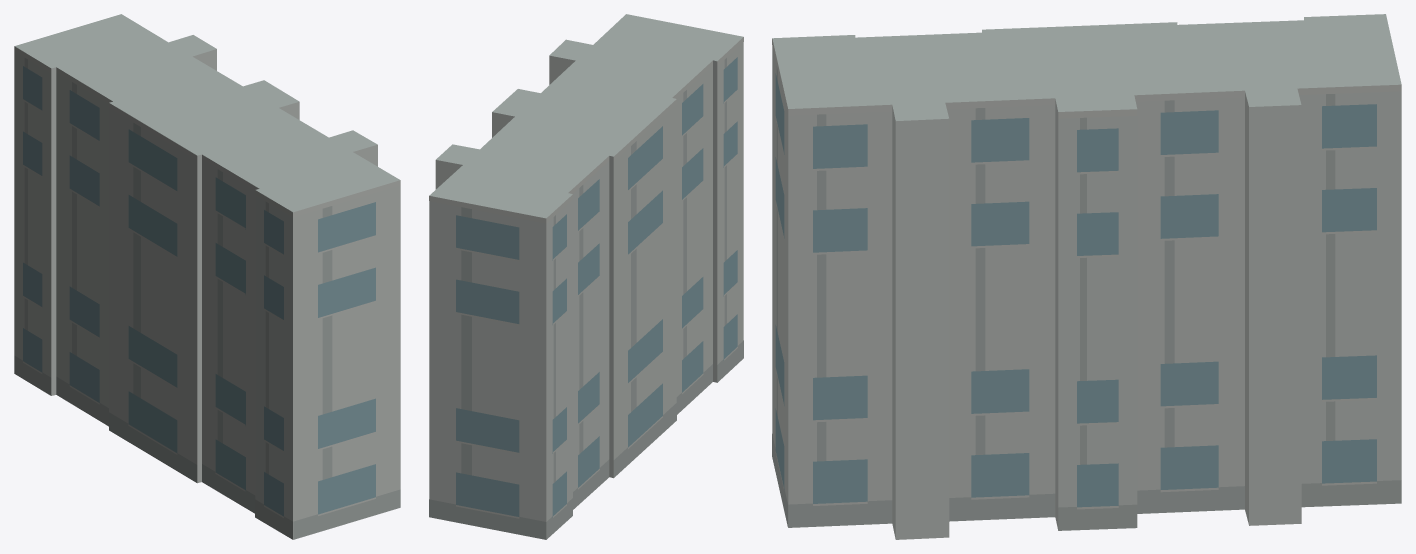
Rendered from survey-upis-32699917.glb.
3 views of the same model, side by side, from view 1: azimuth 30°, elevation 25°; view 2: azimuth 150°, elevation 25°; view 3: azimuth 270°, elevation 25° (orthographic). The views are drawn at different scales.
Visible parts, largest first — view 1: survey-upis-32699917.tmp; view 2: survey-upis-32699917.tmp; view 3: survey-upis-32699917.tmp.
Part boxes in pixels (x1,y1,x2,y2): survey-upis-32699917.tmp: (14,14,400,539); survey-upis-32699917.tmp: (429,14,743,539); survey-upis-32699917.tmp: (772,14,1401,539).
Size of the model in its own units: 8.37 by 15.25 by 20.78.
